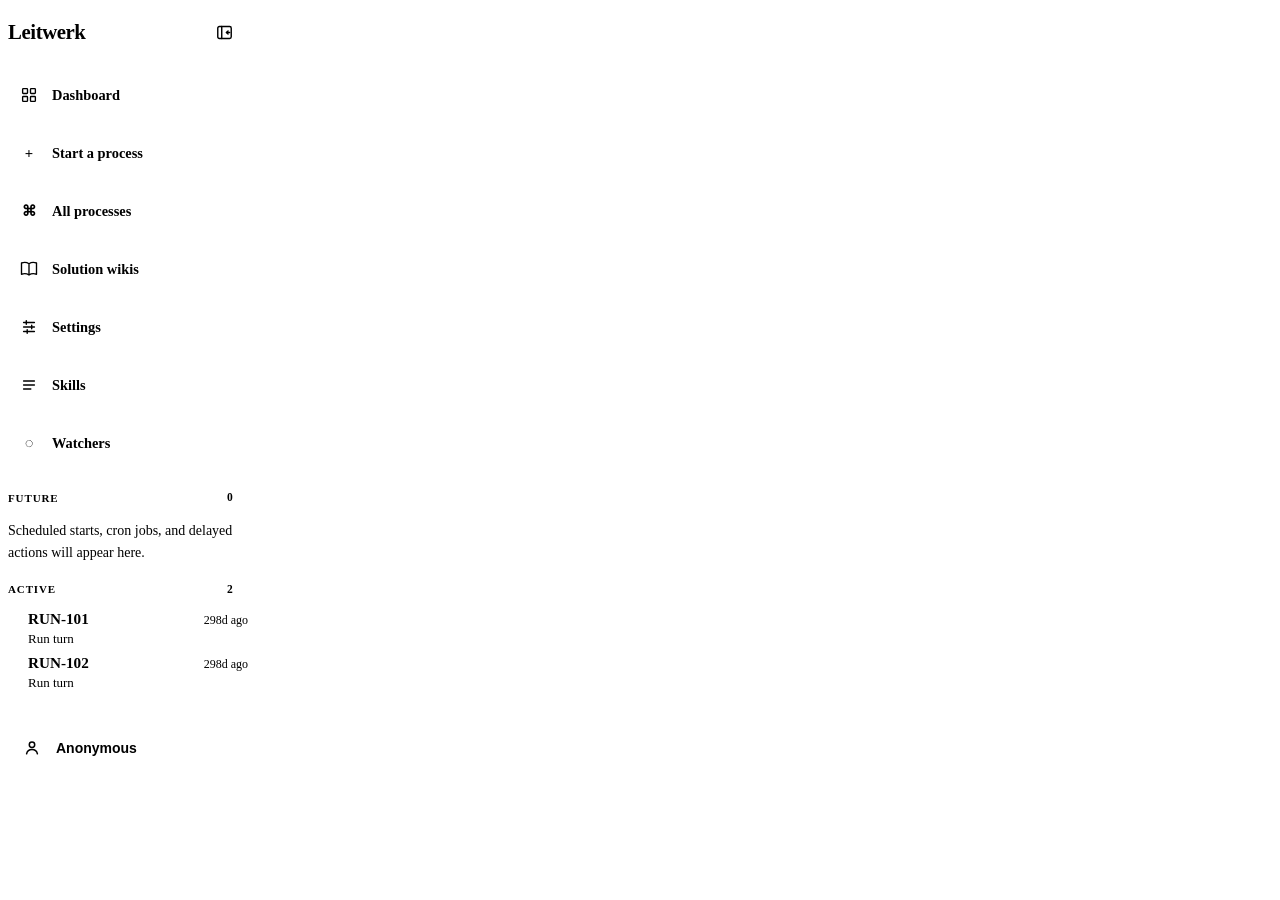
Test case: Sidebar › collapses into an icon rail and quick-switches between current processes
Step 1. Click the button named "Collapse sidebar" → {"x": 224, "y": 32}, box left=200, top=8, right=248, bottom=56
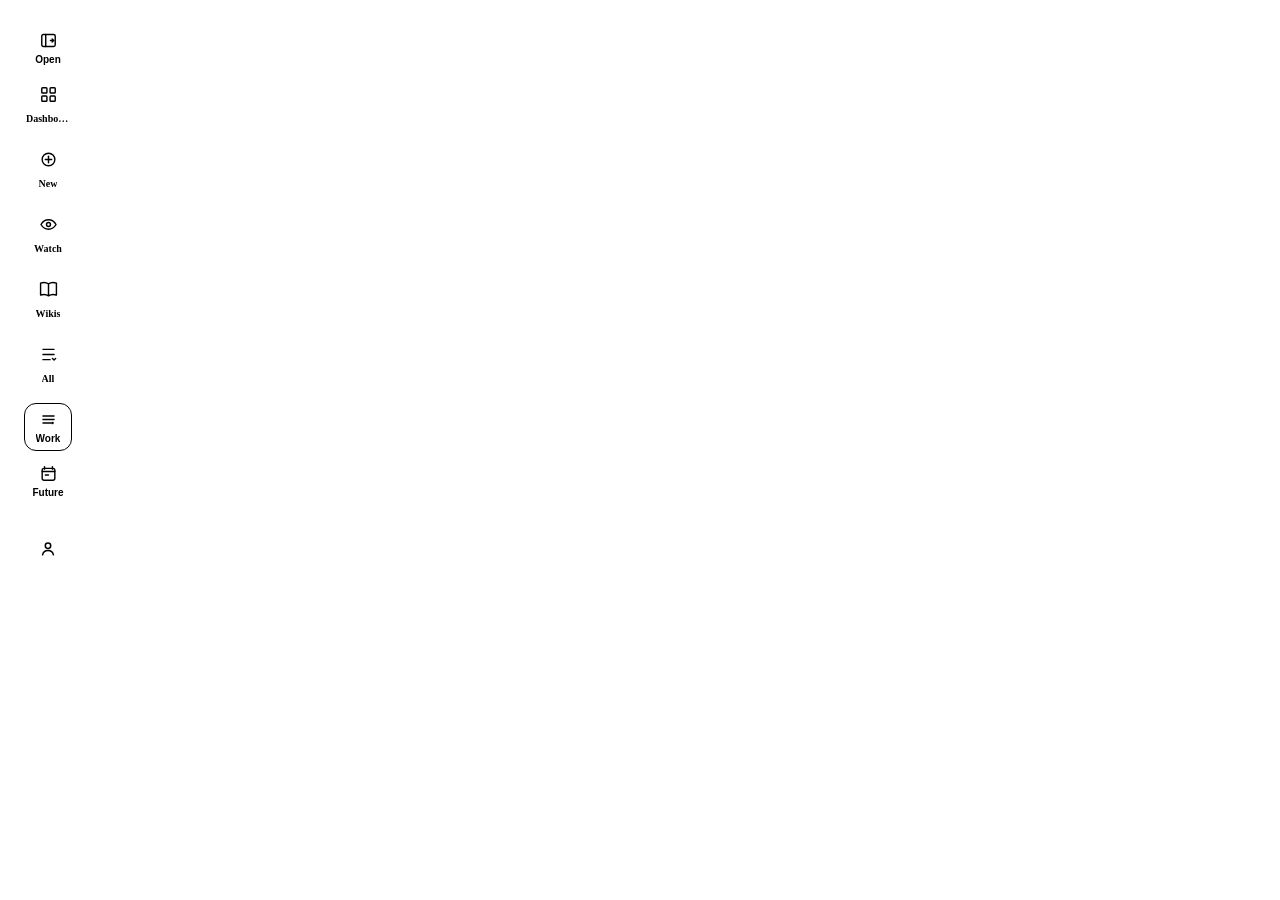
Expected: the element showing "Open Dashboard New Watch Wikis All Work Future" is shown, left=24, top=24, right=73, bottom=573
Now the button "Work" is shown
Step 2. Click the button "Work" → {"x": 48, "y": 427}, box left=24, top=403, right=72, bottom=451
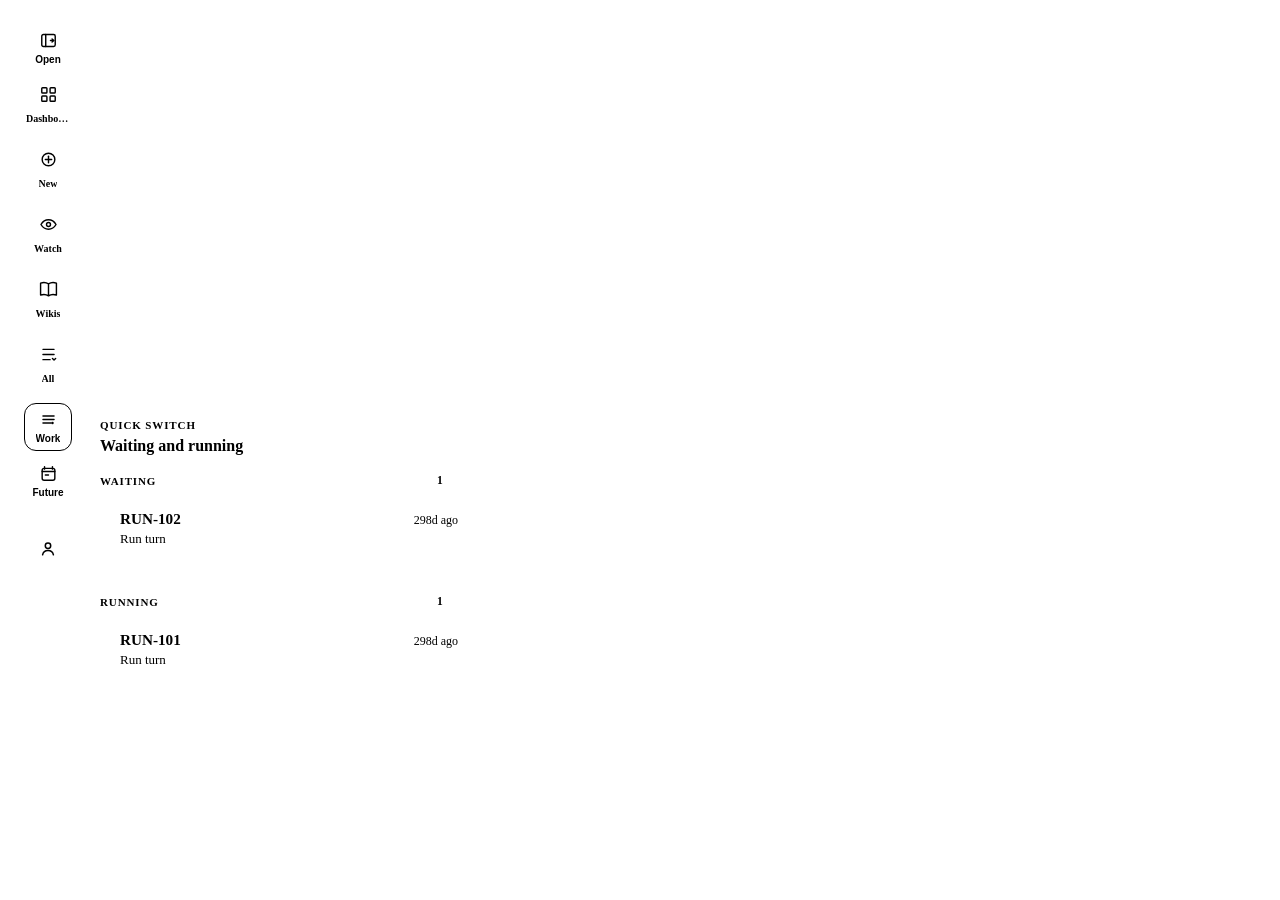
Now the dialog is shown, box left=84, top=403, right=476, bottom=697
Now the dialog shows "Waiting and running", box left=100, top=437, right=243, bottom=454
Now the dialog shows "RUN-101", box left=100, top=618, right=458, bottom=681
Step 3. Click the link to "/processes/agt_2" → {"x": 150, "y": 518}, box left=100, top=497, right=458, bottom=560
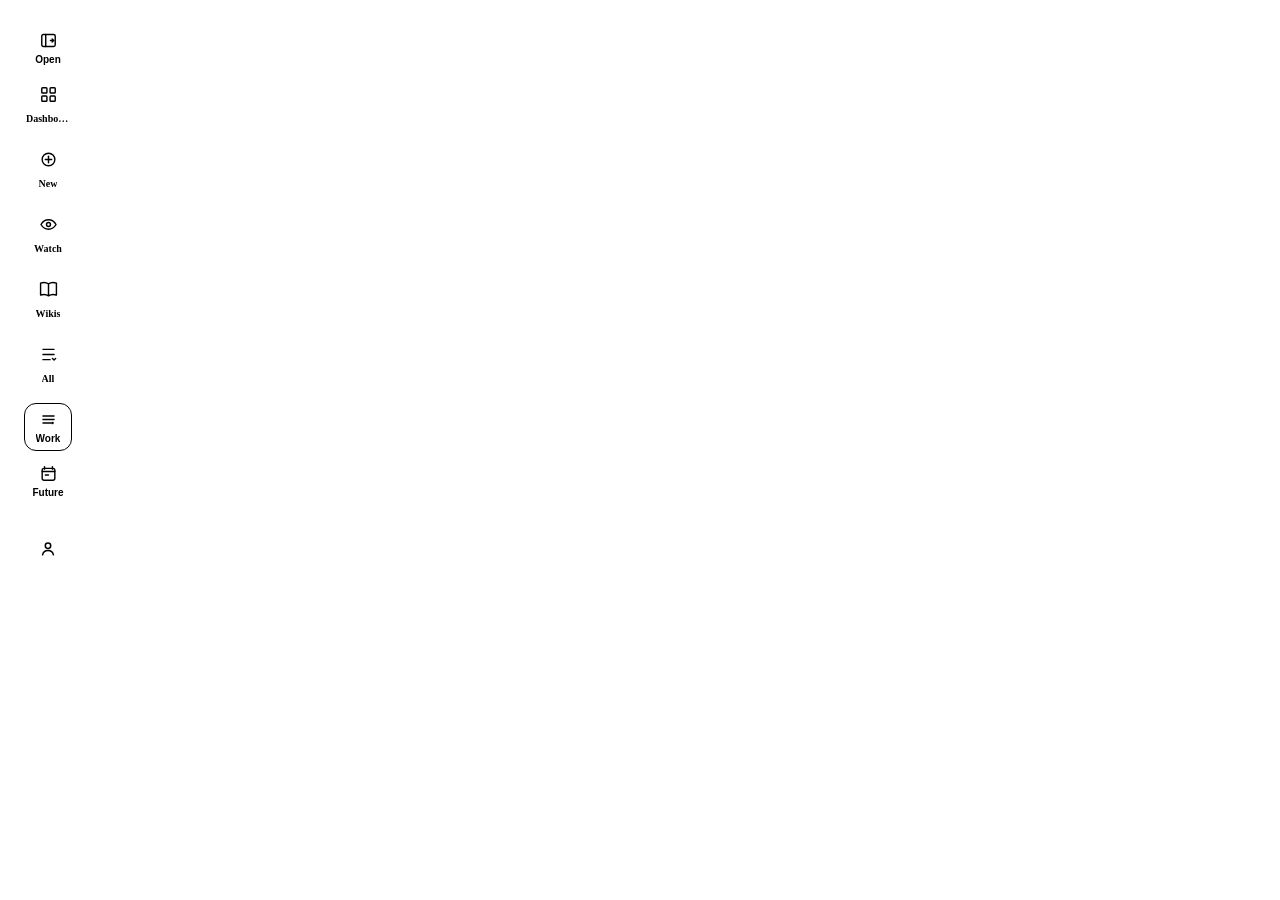
Now the dialog is gone
